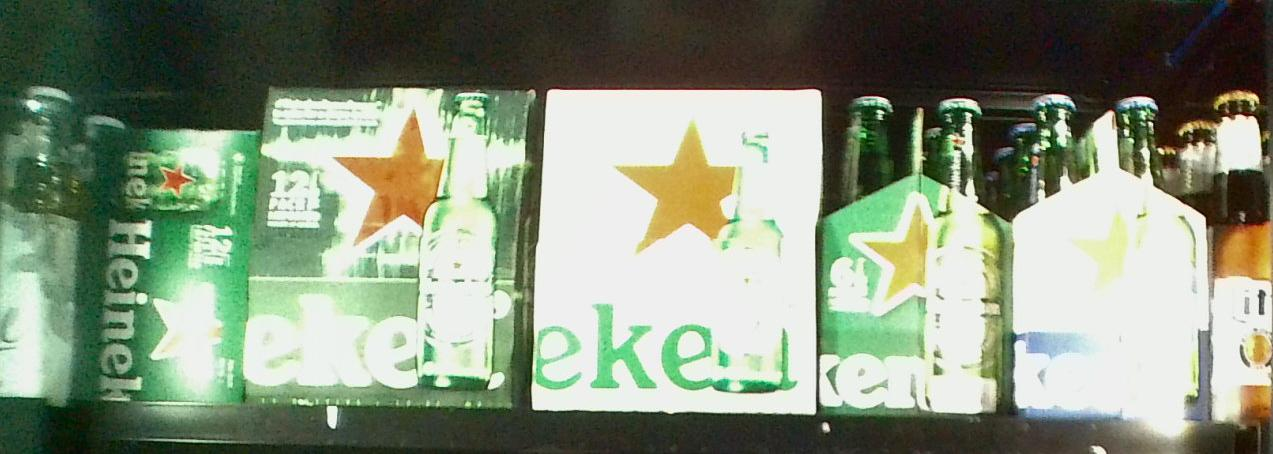bottle: (540, 88, 820, 415), (262, 85, 522, 408), (1012, 93, 1212, 421), (823, 95, 1011, 415), (83, 122, 245, 407)
